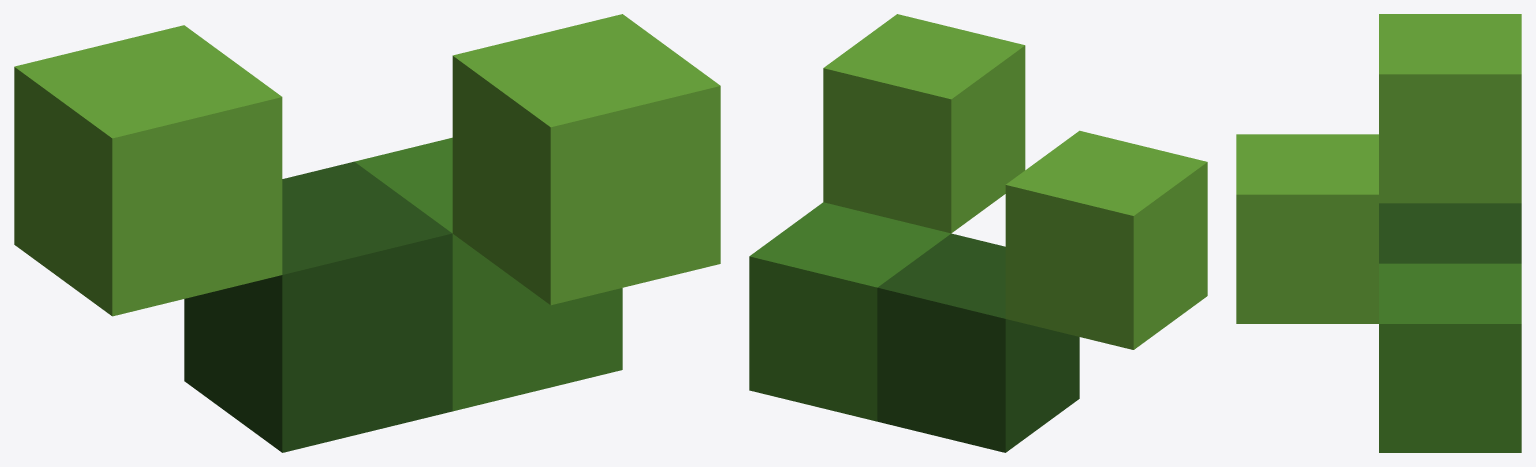
3 renders of one model, left to right at view 1: azimuth 30°, elevation 25°; view 2: azimuth 150°, elevation 25°; view 3: azimuth 270°, elevation 25°, orthographic. The views are drawn at different scales.
Visible parts, largest first — view 1: grass_tuft_small_01; view 2: grass_tuft_small_01; view 3: grass_tuft_small_01.
Part boxes in pixels (x1,y1,x2,y2): grass_tuft_small_01: (14,14,720,452); grass_tuft_small_01: (749,14,1207,452); grass_tuft_small_01: (1236,14,1521,452).
Bounding box in the file's own units: 0.3 × 0.2 × 0.2.
Materials: 1 (1 with a texture image).
